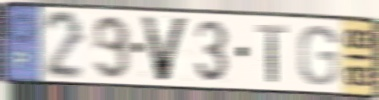2: (41, 8, 89, 82)
3: (194, 18, 232, 84)
9: (91, 13, 131, 81)
G: (297, 23, 341, 88)
T: (255, 22, 289, 85)
V: (138, 14, 193, 84)
